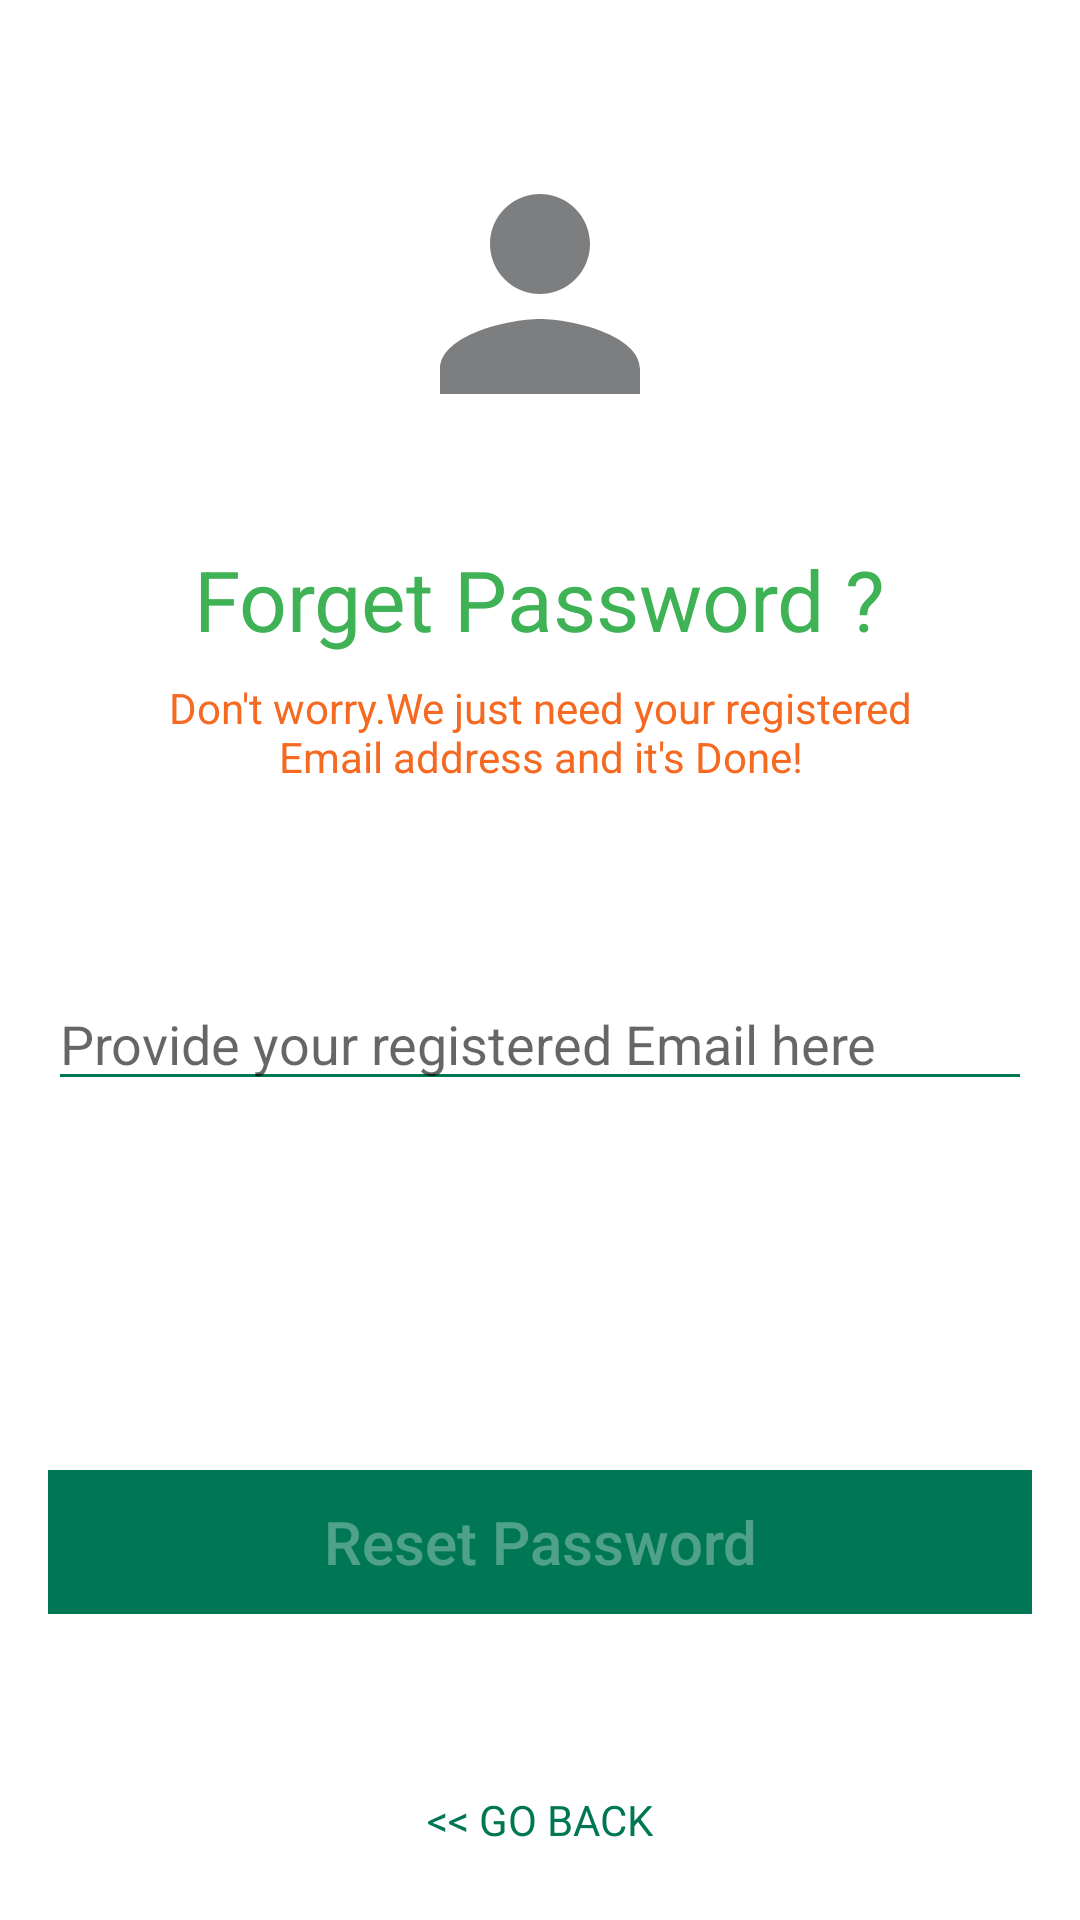

Icon click points for this 1080 x 1920 phone screenshot, format (x=x, y=y):
person: (x=540, y=294)
